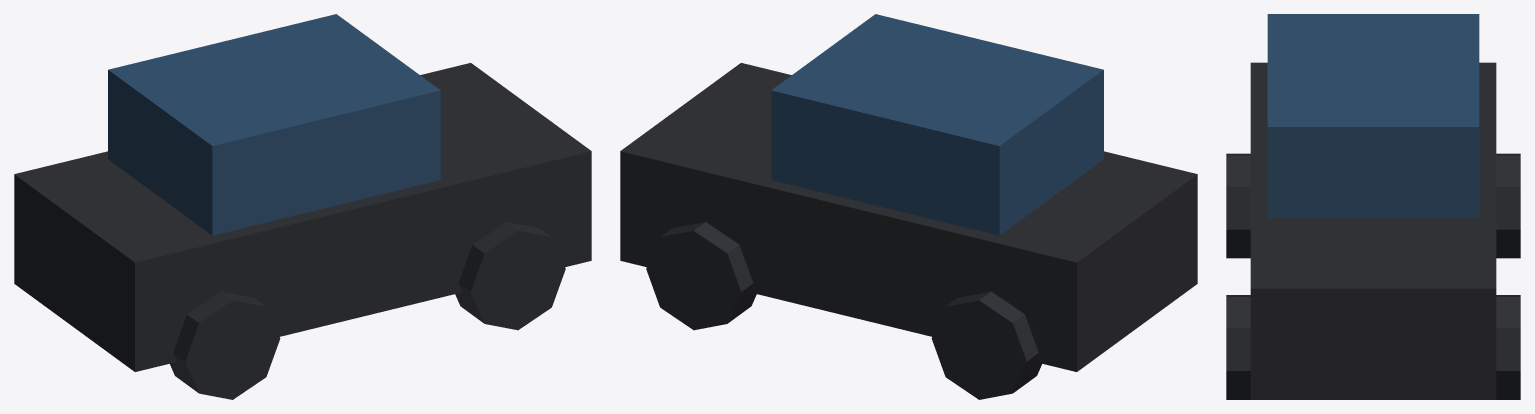
The model's file is sedan.glb.
The picture shows the model from 3 angles, left to right: view 1: azimuth 30°, elevation 25°; view 2: azimuth 150°, elevation 25°; view 3: azimuth 270°, elevation 25°; orthographic projection.
Parts seen in each view (by area): view 1: sedan; view 2: sedan; view 3: sedan.
Boxes of the visible parts, x1,y1,x2,y2 form: sedan: (14,14,591,399); sedan: (620,14,1197,399); sedan: (1226,14,1520,399).
Size of the model in its own units: 0.528 by 0.264 by 0.2904.
